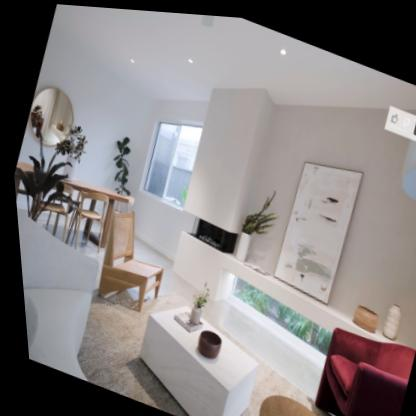Chair: (83, 200, 177, 316), (56, 181, 115, 260), (22, 172, 79, 247)
Sofa: (288, 308, 416, 416)
Table: (10, 151, 136, 256)
Window: (130, 105, 209, 214)
